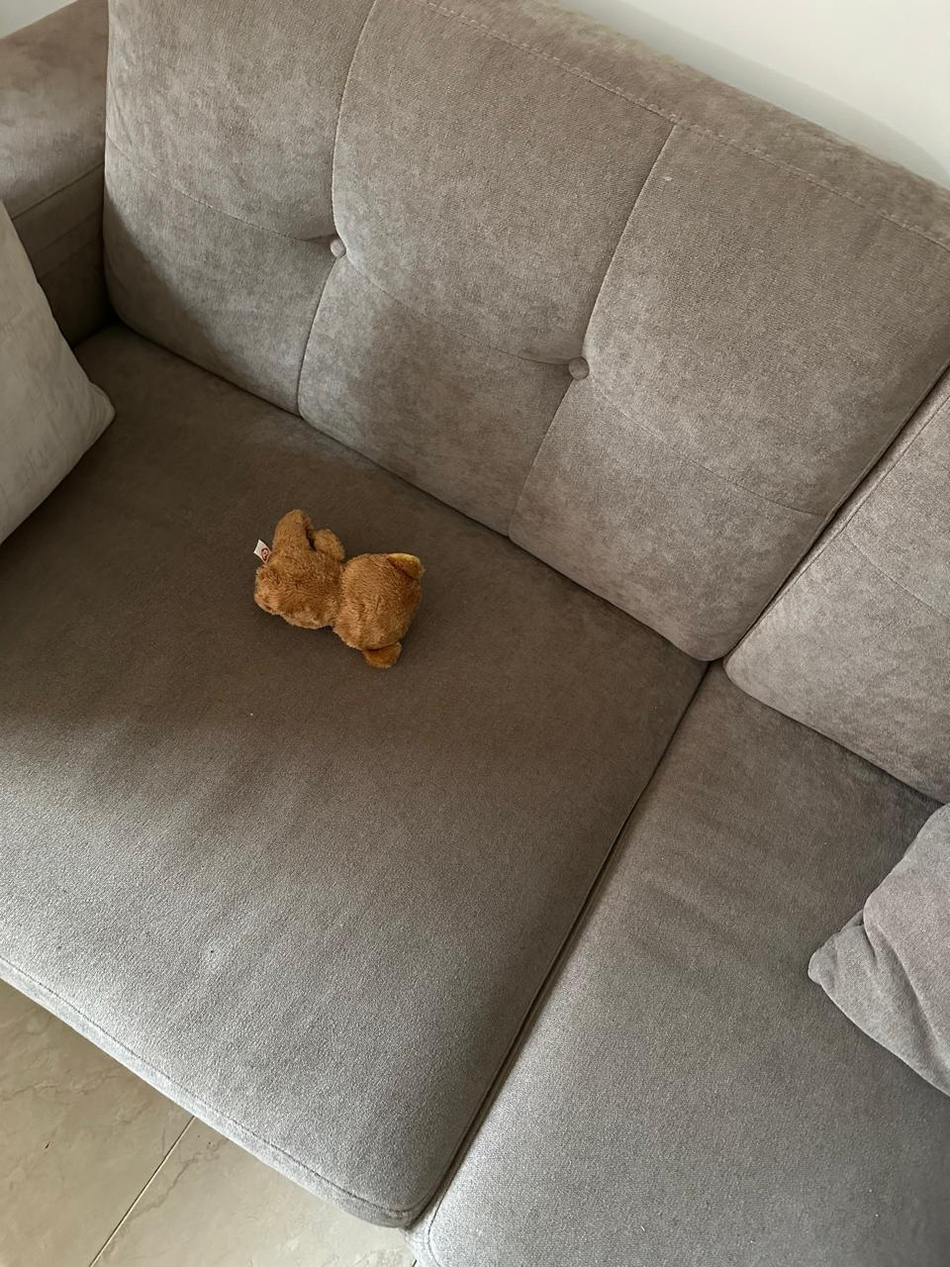peluche_sebastian: (242, 505, 428, 671)
